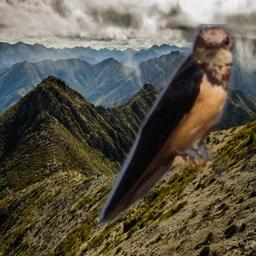Swallow: (97, 24, 236, 231)
